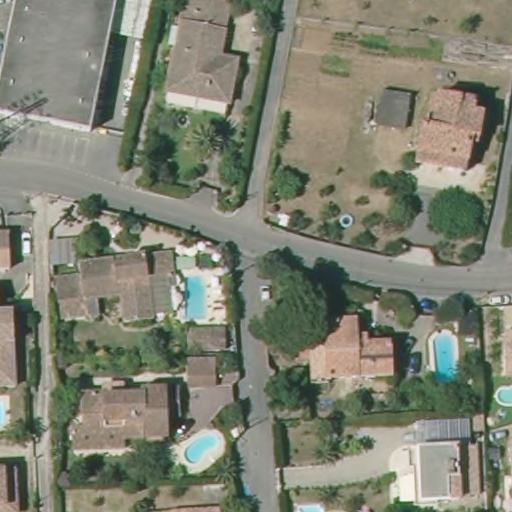pool: (422, 318, 466, 390), (170, 430, 228, 469), (179, 270, 216, 324), (489, 384, 512, 413), (1, 393, 14, 433)
